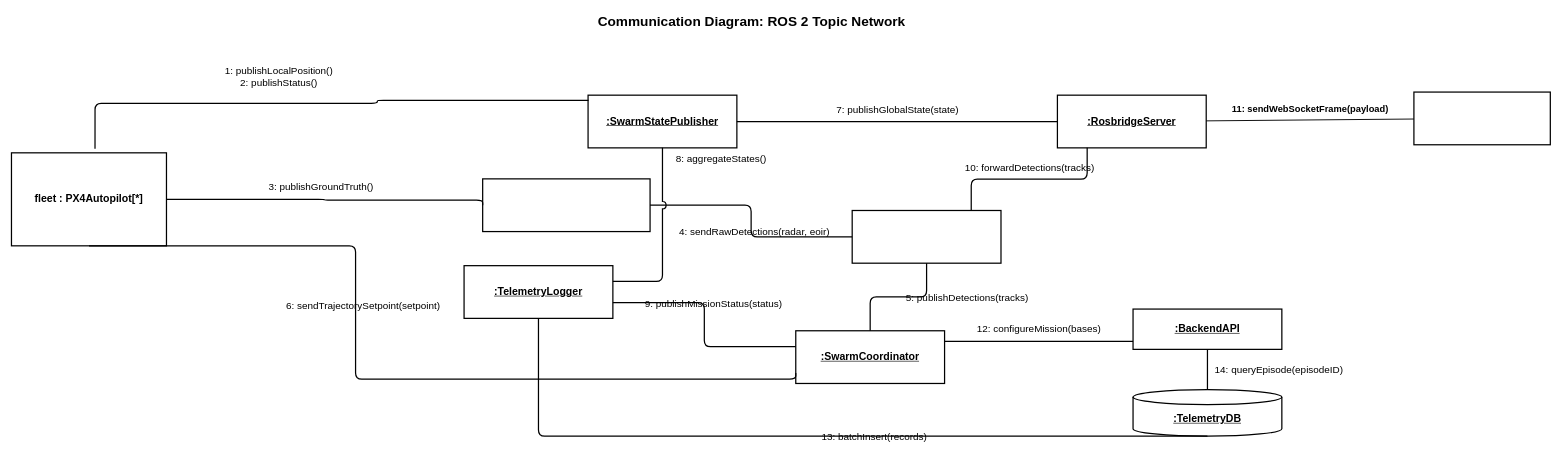
Image size: 1561x453. Some labels were removed from this diagram. The centre of each missing label's shape, as x and y in pixels:
":FusionEngine" belongs at point (926, 237).
":ROSClient" belongs at point (1482, 118).
":SensorSuite" belongs at point (566, 205).
